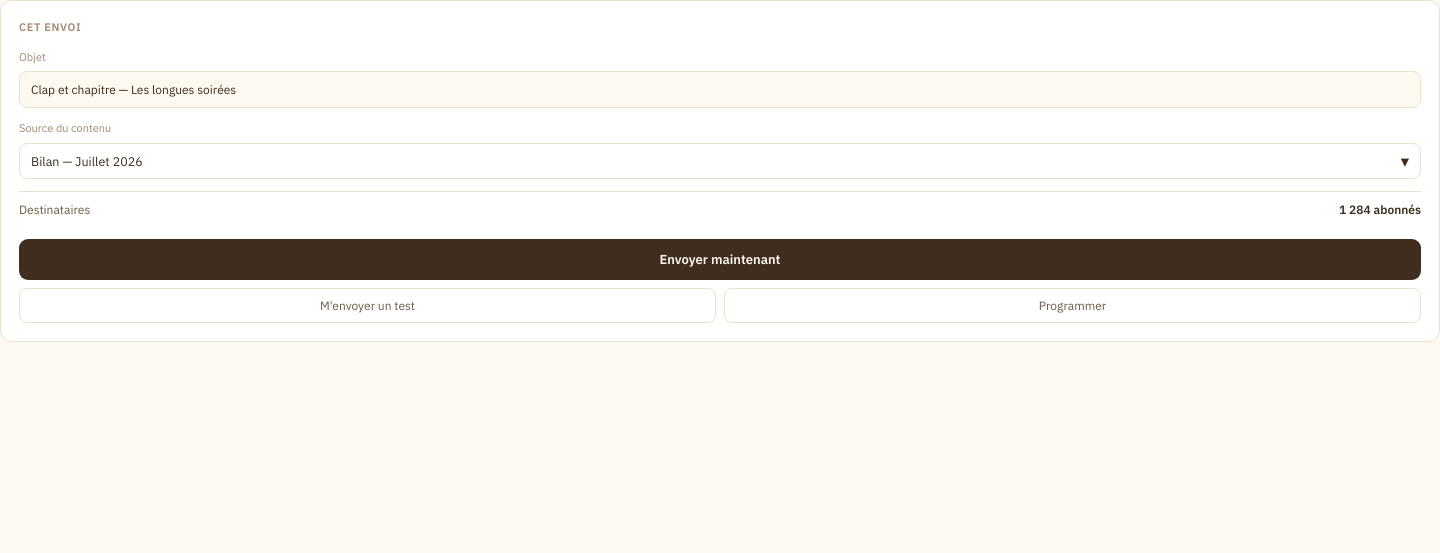
it: AN-3 newsletter panels › surfaces a scheduling error once the schedule form is open
The image size is (1440, 553).
Click the button "Programmer": (1072, 306) [724, 288, 1421, 323]
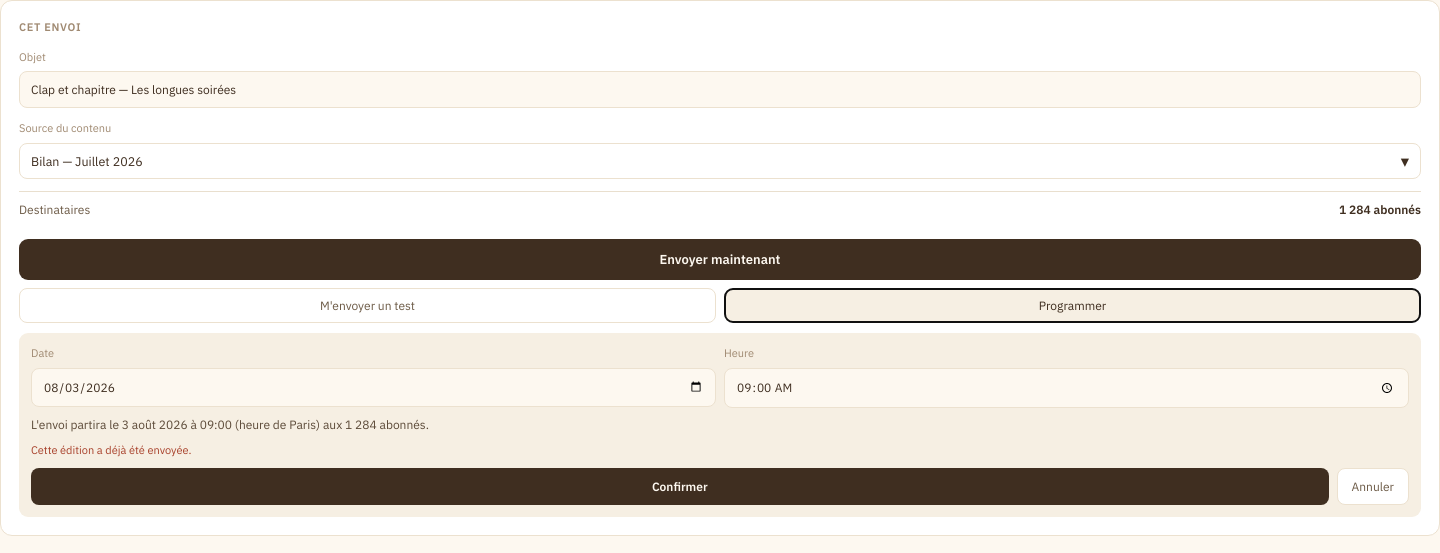
Expected: the text "Cette édition a déjà été envoyée." is shown, [31, 443, 191, 457]
